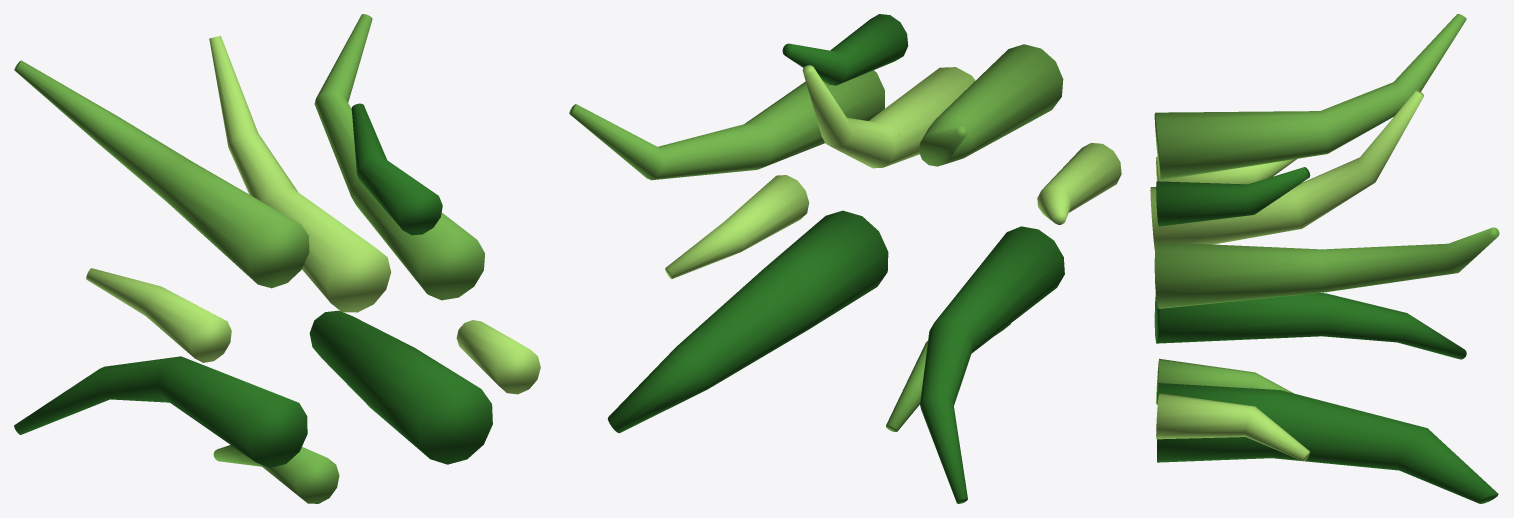
The model's file is grass4_turned.fbx.
The picture shows the model from 3 angles, left to right: view 1: azimuth 30°, elevation 25°; view 2: azimuth 150°, elevation 25°; view 3: azimuth 270°, elevation 25°; orthographic projection. The views are drawn at different scales.
Parts seen in each view (by area): view 1: grass4; view 2: grass4; view 3: grass4.
Part boxes in pixels (bbox=[...]): grass4: bbox=[14, 14, 540, 503]; grass4: bbox=[569, 14, 1121, 503]; grass4: bbox=[1150, 14, 1499, 503].
Bounding box in the file's own units: 160 × 149 × 133.
